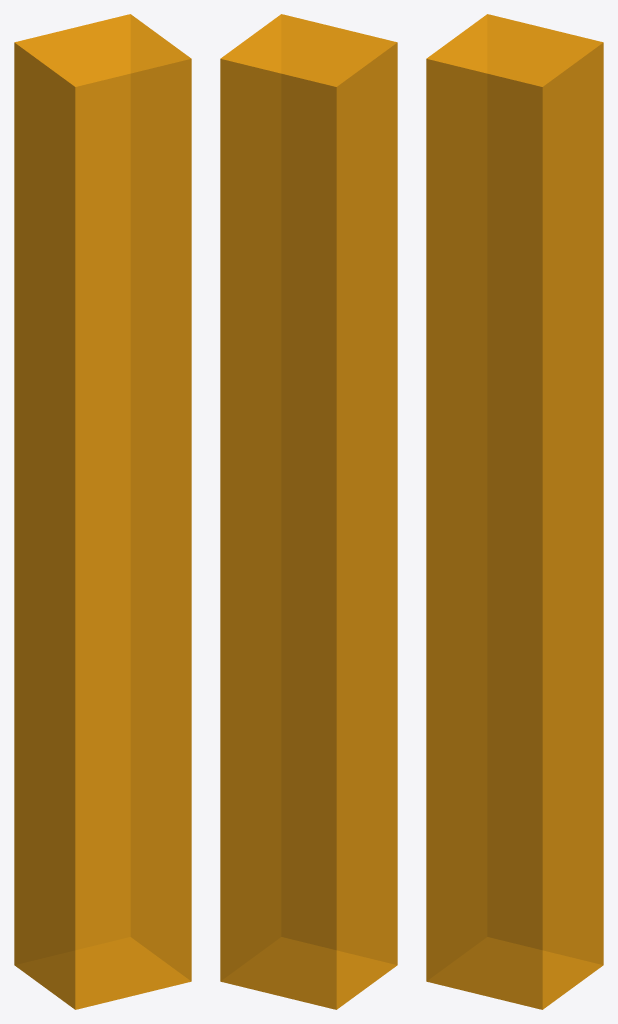
The model's file is original-11.obj.
The picture shows the model from 3 angles, left to right: view 1: azimuth 30°, elevation 25°; view 2: azimuth 150°, elevation 25°; view 3: azimuth 330°, elevation 25°; orthographic projection.
Visible parts, largest first — view 1: mesh14/mesh14-geometry#mesh14-geometry; view 2: mesh14/mesh14-geometry#mesh14-geometry; view 3: mesh14/mesh14-geometry#mesh14-geometry.
Boxes of the visible parts, x1,y1,x2,y2 form: mesh14/mesh14-geometry#mesh14-geometry: (14, 14, 191, 1009); mesh14/mesh14-geometry#mesh14-geometry: (220, 14, 397, 1009); mesh14/mesh14-geometry#mesh14-geometry: (426, 14, 603, 1009).
Size of the model in its own units: 0.00132 by 0.01 by 0.0012.
